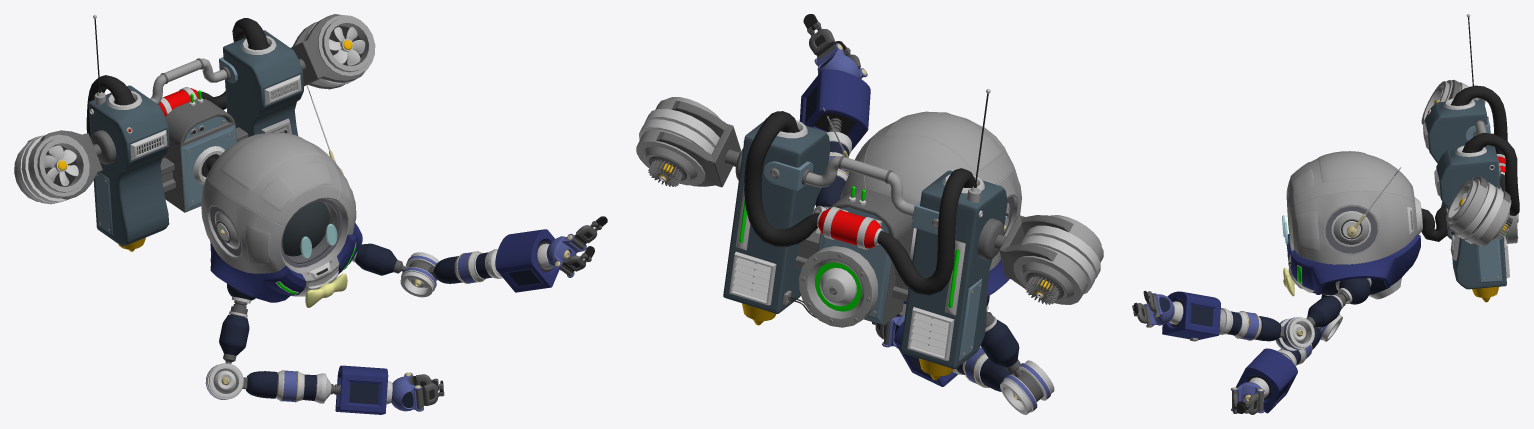
The model's file is Robot_Sketchfab_Pose.fbx.
3 renders of one model, left to right at view 1: azimuth 30°, elevation 25°; view 2: azimuth 150°, elevation 25°; view 3: azimuth 270°, elevation 25°, orthographic. The views are drawn at different scales.
Visible parts, largest first — view 1: RoboBartender2; view 2: RoboBartender2; view 3: RoboBartender2.
Boxes of the visible parts, x1,y1,x2,y2 form: RoboBartender2: (14,14,607,414); RoboBartender2: (636,14,1103,414); RoboBartender2: (1132,14,1519,414).
Bounding box in the file's own units: 769 × 640 × 696.
